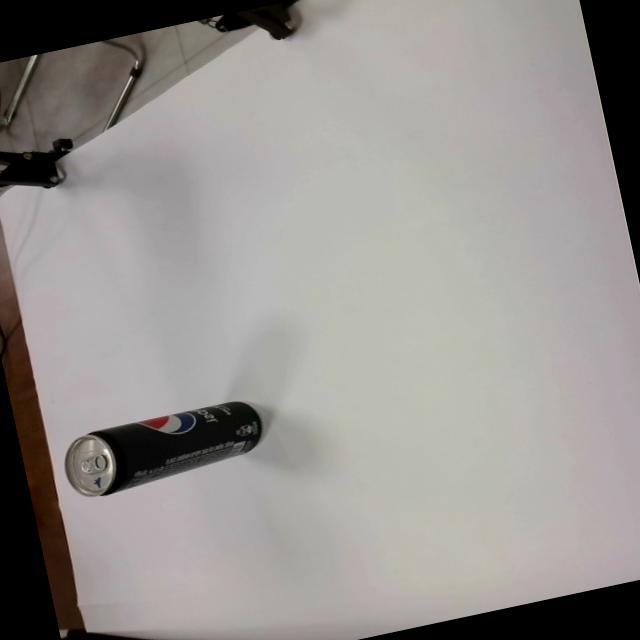debris: (56, 394, 270, 503)
